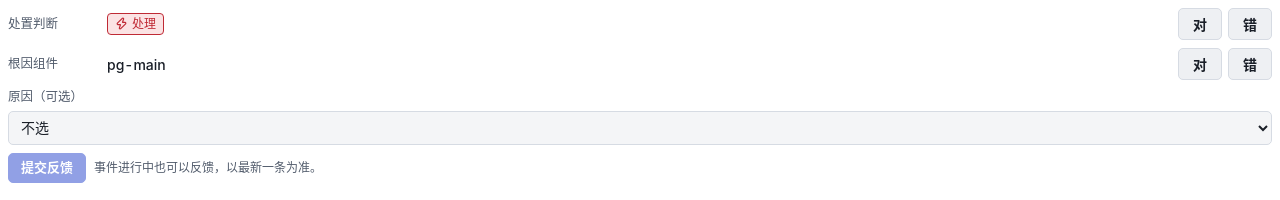
Test: 反馈 › 确认时原因可选；只选原因、不评价两个维度也可以提交
The width and height of the screenshot is (1280, 200).
Click the button "对" in the row of "处理".
click(1200, 24)  # box x1=1178 y1=8 x2=1222 y2=40
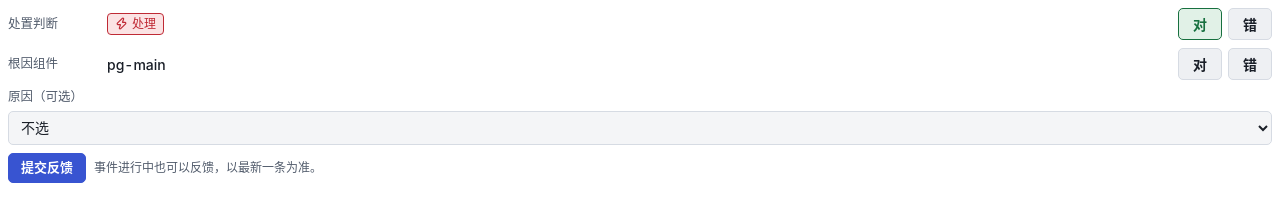
Expected: the button "提交反馈" is enabled, x1=8 y1=153 x2=86 y2=183
Click the button "对" in the row of "处理".
click(1200, 24)  # box x1=1178 y1=8 x2=1222 y2=40
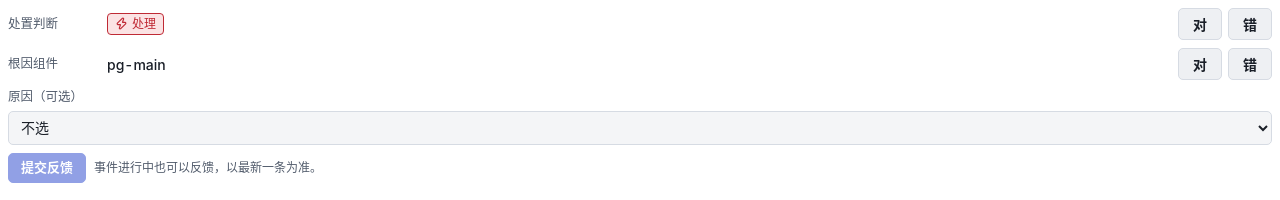
Expected: the button "提交反馈" is disabled, x1=8 y1=153 x2=86 y2=183
Select "比旧系统差" in the dropdown labelled "原因（可选）" at (640, 128), box x1=8 y1=111 x2=1272 y2=145
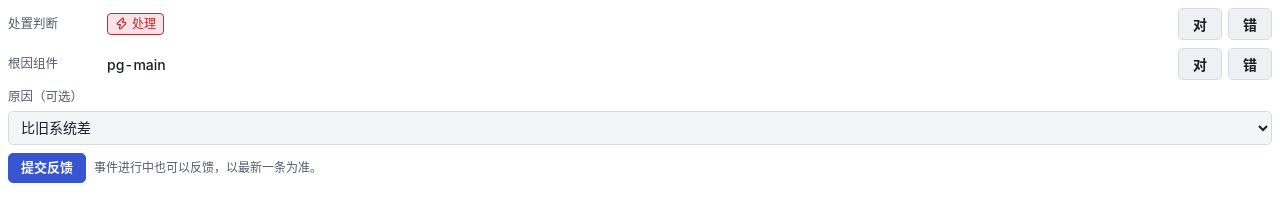
Expected: the button "提交反馈" is enabled, x1=8 y1=153 x2=86 y2=183
